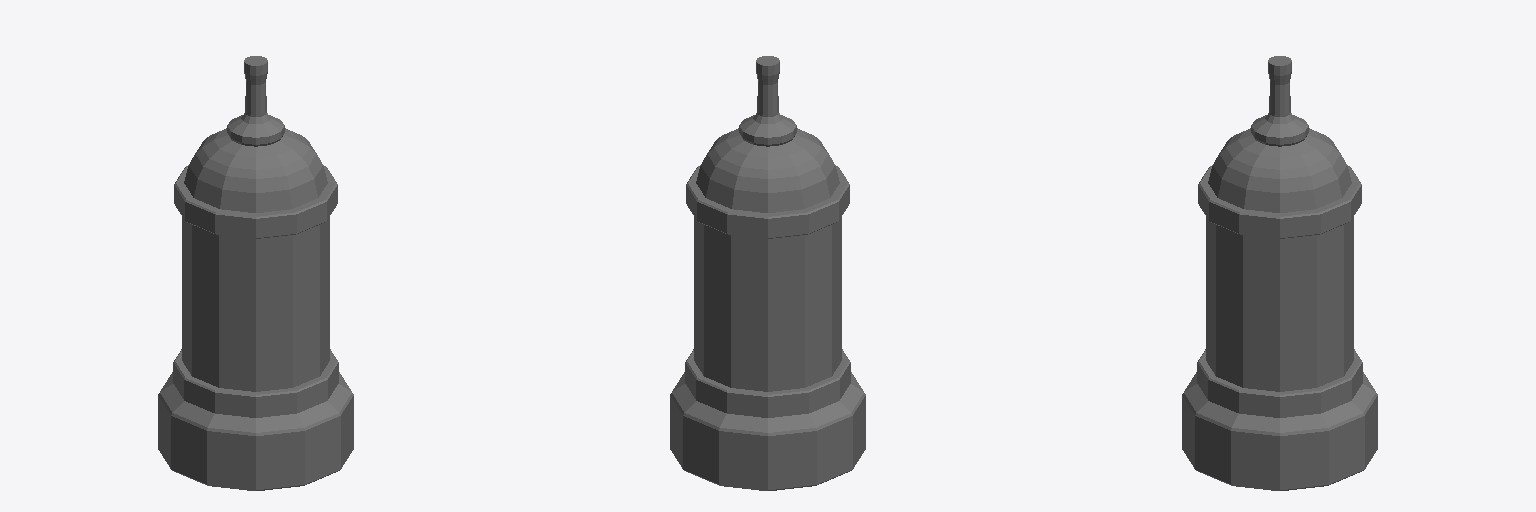
File: machine.obj
3 renders of one model, left to right at view 1: azimuth 30°, elevation 25°; view 2: azimuth 150°, elevation 25°; view 3: azimuth 270°, elevation 25°, orthographic.
Parts seen in each view (by area): view 1: machine timeMachine Hub; view 2: machine timeMachine Hub; view 3: machine timeMachine Hub.
Boxes of the visible parts, box(x1,y1,x2,y2) form: machine timeMachine Hub: box(158, 56, 353, 490); machine timeMachine Hub: box(670, 56, 865, 490); machine timeMachine Hub: box(1182, 56, 1377, 490).
Bounding box in the file's own units: 8.97 × 19.72 × 8.97.